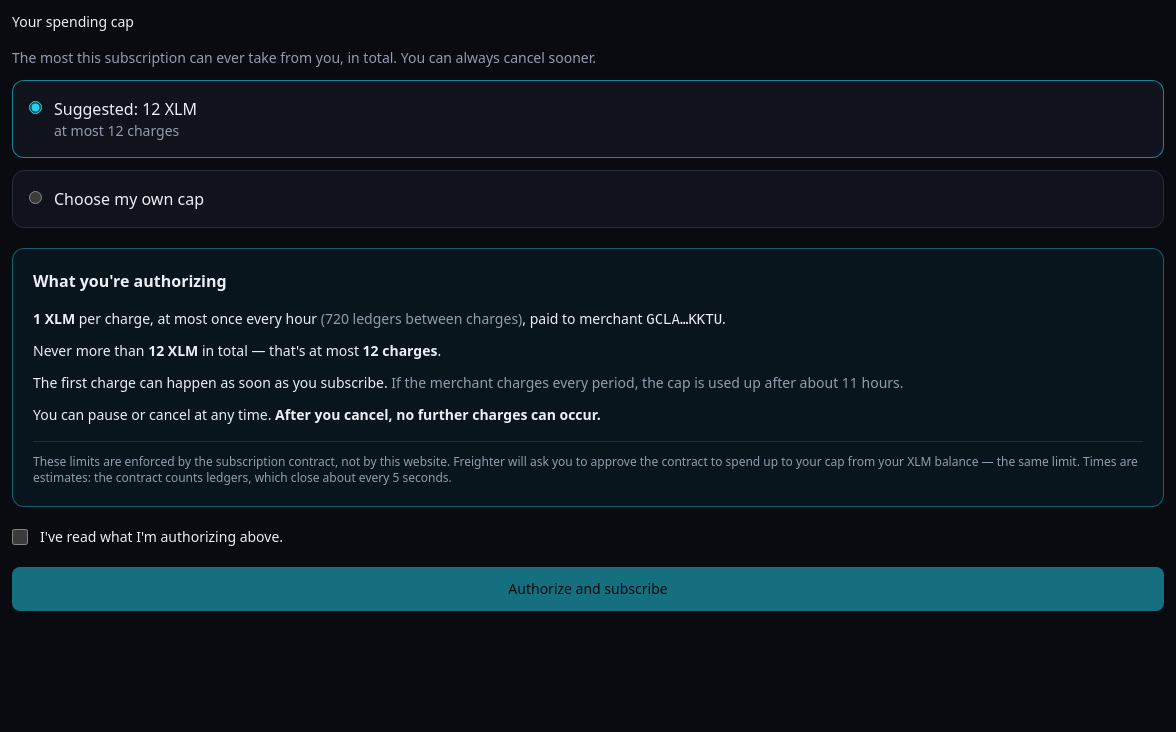
Test case: SubscribeForm › blocks a custom cap below one charge and hides the summary
The width and height of the screenshot is (1176, 732).
Click the radio button labelled "Choose my own cap". click: click(36, 198)
box: [29,191,42,204]
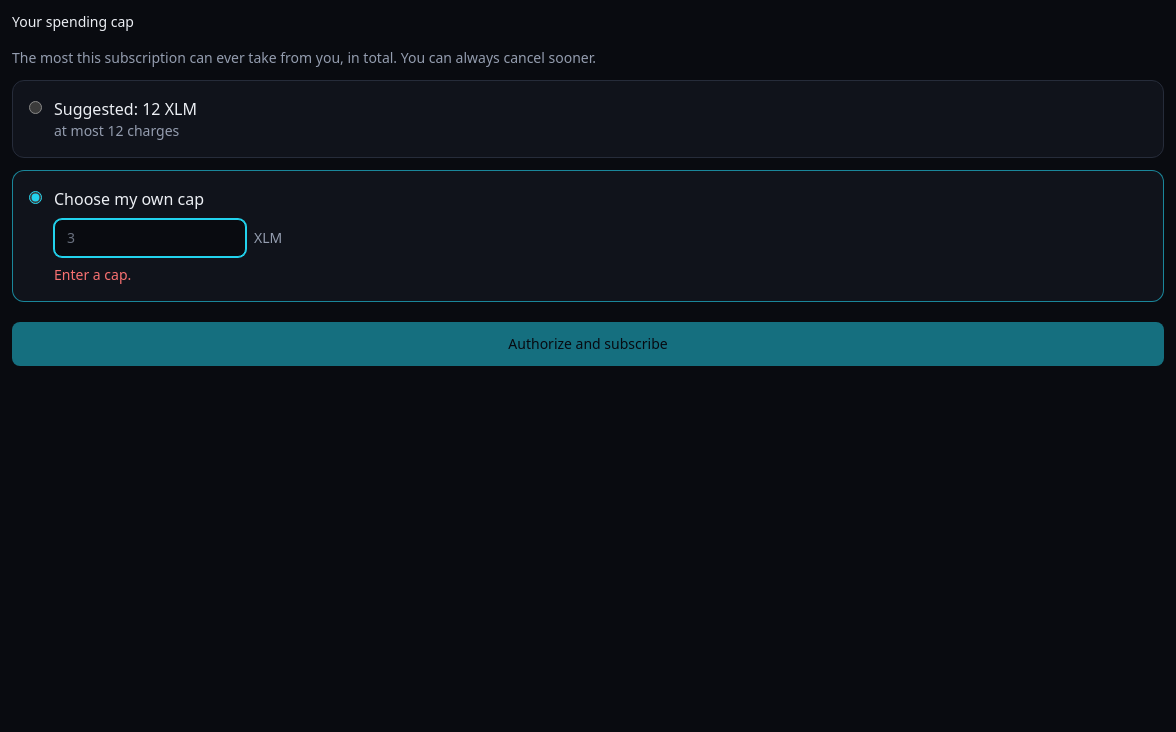
Type "0.5" into the field named "Custom cap". click: (150, 238)
box: [54,219,246,257]
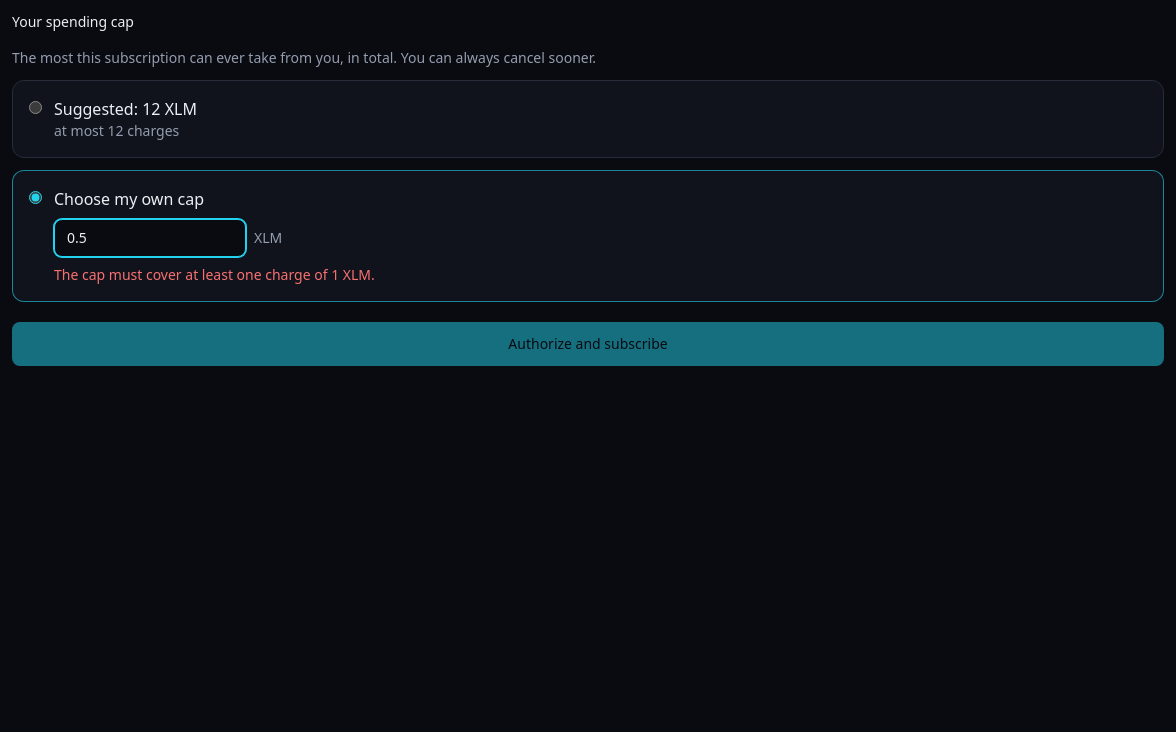
Expected: the heading "What you're authorizing" is not shown
Now the message shows "must cover at least one charge", box [54,265,375,284]
